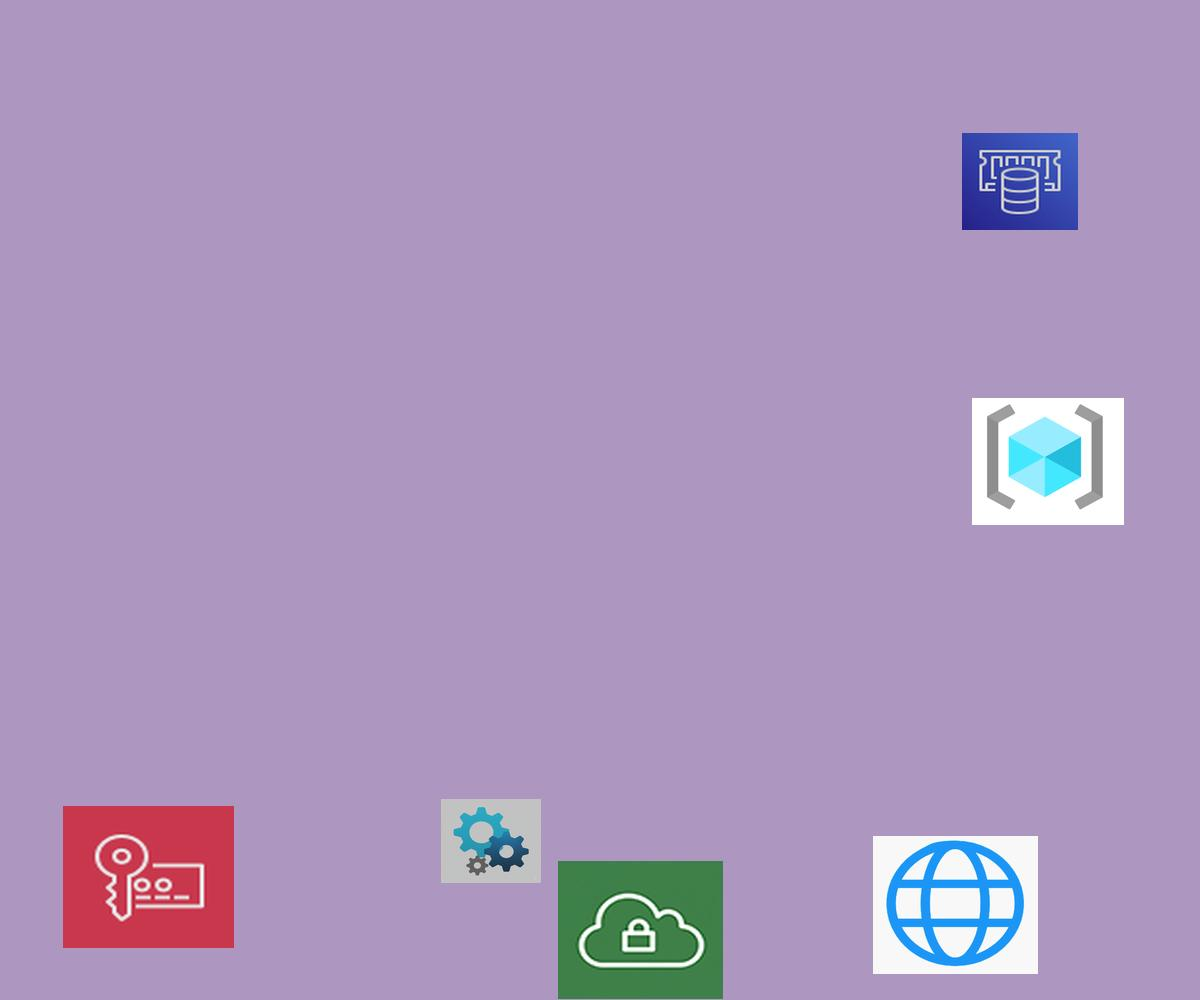AWS-ElastiCache: (962, 133, 1078, 230)
AWS-Key-Management-Service: (63, 806, 234, 948)
AWS-Private_vpc: (558, 861, 723, 999)
Azure_api: (441, 799, 541, 883)
Azure_http: (873, 836, 1038, 974)
Azure_resource_group: (972, 398, 1124, 525)
